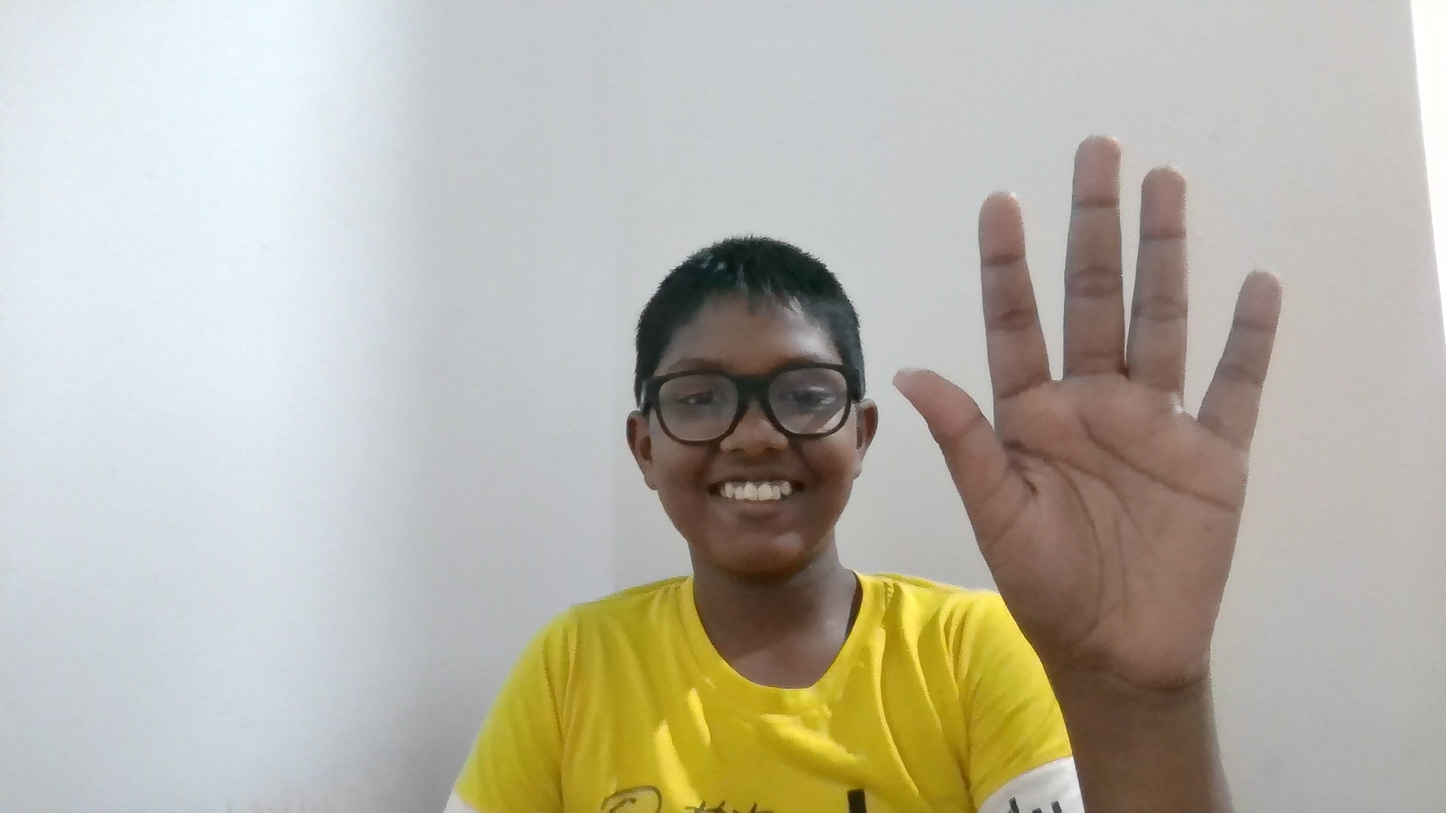Hello: (889, 114, 1359, 617)
